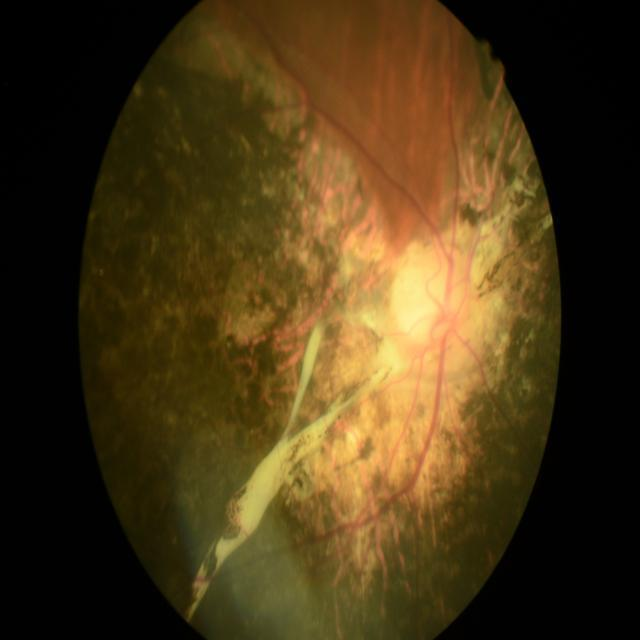cup: (414, 270, 456, 322)
